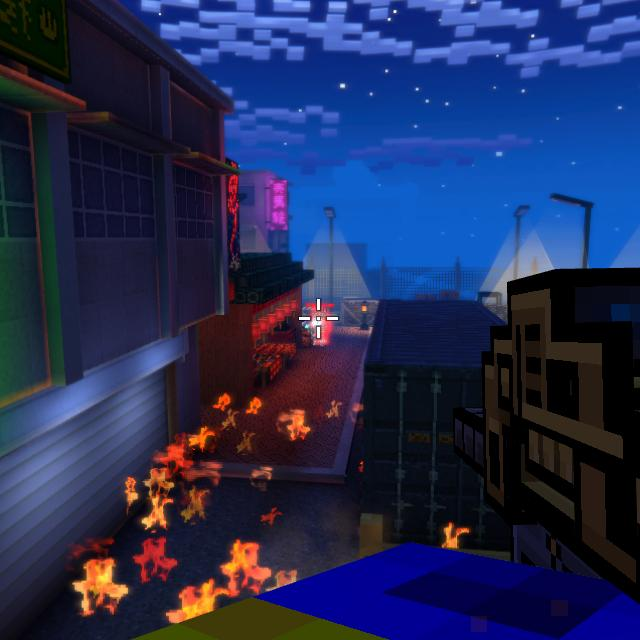Enemy: (312, 312, 327, 346)
